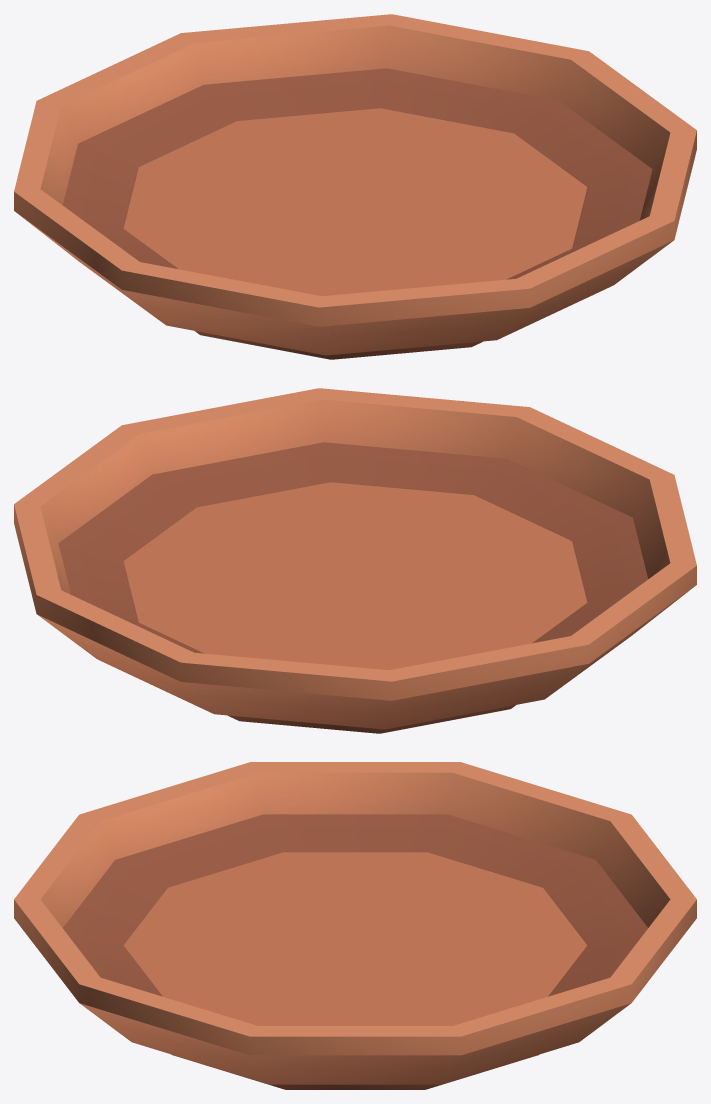
Rendered from tajine.glb.
3 views of the same model, one above another, from view 1: azimuth 30°, elevation 25°; view 2: azimuth 150°, elevation 25°; view 3: azimuth 270°, elevation 25° (orthographic). The views are drawn at different scales.
Parts seen in each view (by area): view 1: tajine; view 2: tajine; view 3: tajine.
Part boxes in pixels (x1,y1,x2,y2): tajine: [14, 14, 696, 359]; tajine: [14, 388, 696, 733]; tajine: [14, 762, 696, 1089].
Size of the model in its own units: 0.8191 by 0.138 by 0.8613.
Materials: 1 (1 with a texture image).
